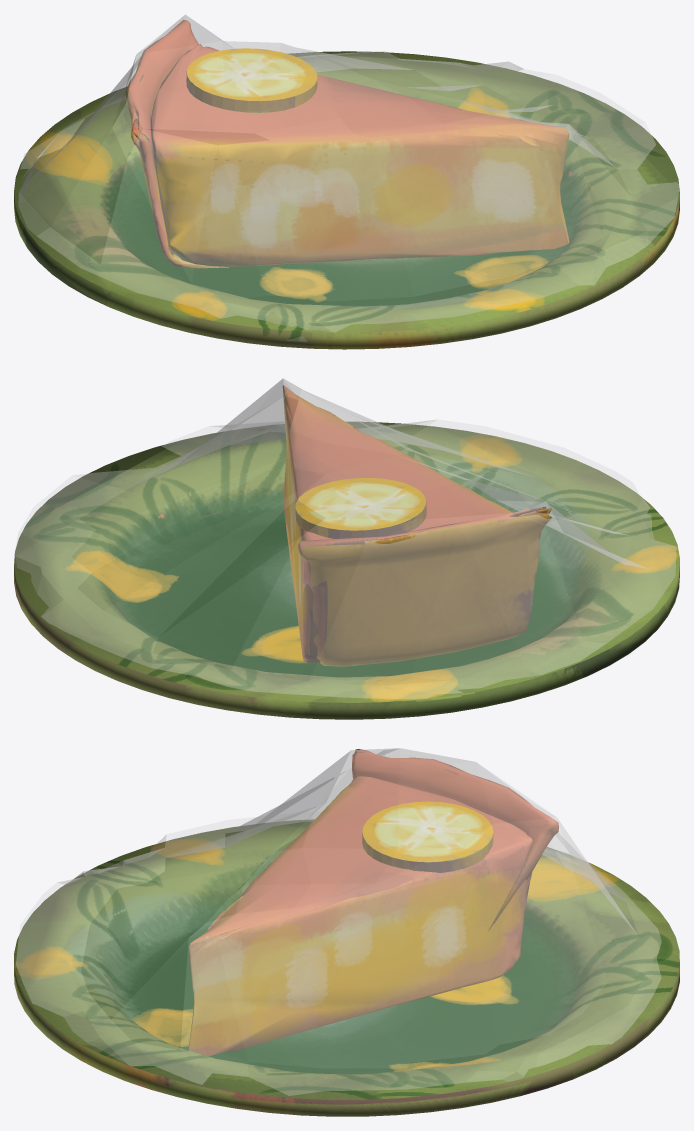
File: LO_pie_slice.glb
3 renders of one model, top to bottom at view 1: azimuth 30°, elevation 25°; view 2: azimuth 150°, elevation 25°; view 3: azimuth 270°, elevation 25°, orthographic.
Parts seen in each view (by area): view 1: pieplate, foil; view 2: pieplate, foil; view 3: pieplate, foil.
Part boxes in pixels (left/top/right/bottom): pieplate: left=14, top=20, right=679, bottom=349; foil: left=18, top=14, right=678, bottom=341; pieplate: left=14, top=385, right=679, bottom=719; foil: left=14, top=378, right=676, bottom=698; pieplate: left=14, top=749, right=679, bottom=1116; foil: left=16, top=748, right=661, bottom=1095.
Bounding box in the file's own units: 0.2979 × 0.087 × 0.2979.
Materials: 2 (1 with a texture image).
